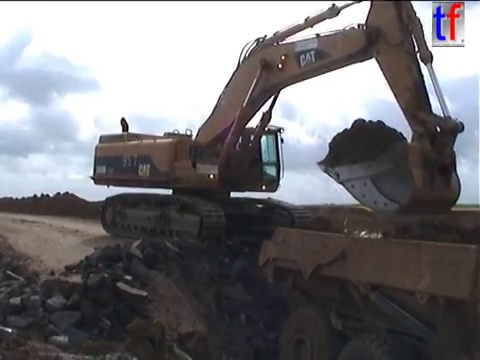excavator: (87, 1, 467, 248)
truck: (254, 207, 480, 360)
